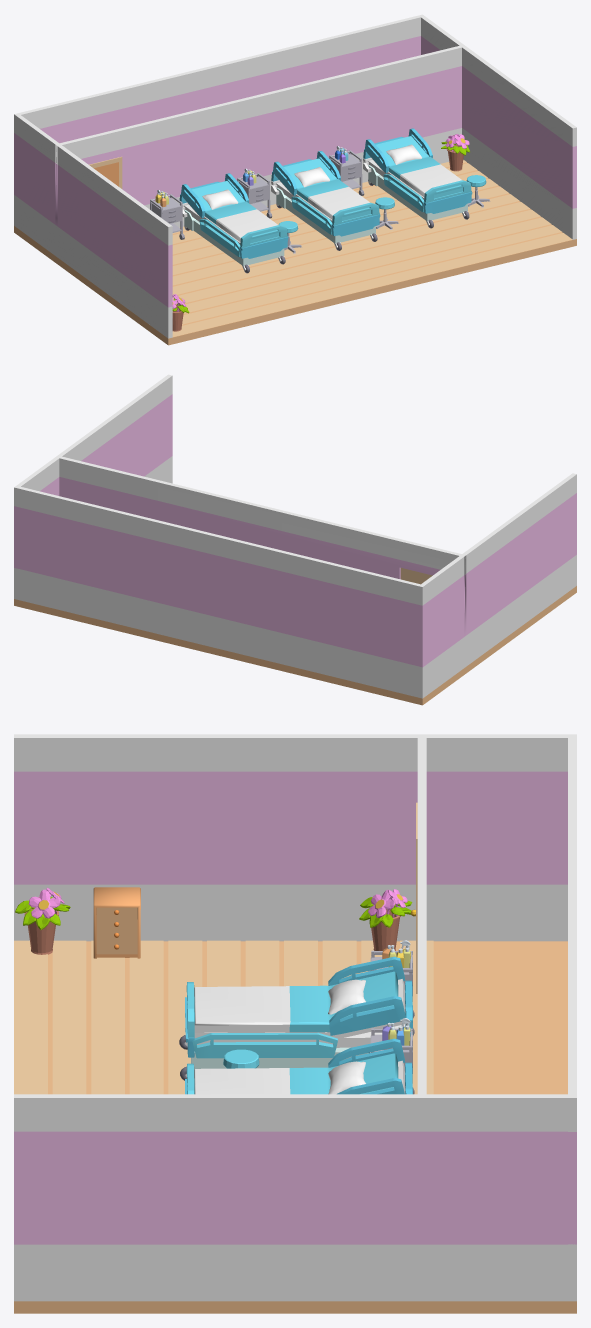
File: rd_Room.fbx
The picture shows the model from 3 angles, top to bottom: view 1: azimuth 30°, elevation 25°; view 2: azimuth 150°, elevation 25°; view 3: azimuth 270°, elevation 25°; orthographic projection. The views are drawn at different scales.
Parts seen in each view (by area): view 1: polySurface47, Wall_M_01_5, Wall_M_01_6, Wall_M_01_8, Wall_M_01_7, pasted__Bed4, pasted__Bed3, pasted__Bed2, Assets_01_8, Assets_01_9, Assets_01_10, Assets_01_6 (+2 smaller); view 2: Wall_M_01_8, Wall_M_01_6, Wall_M_01_5, Wall_M_01_7, polySurface47; view 3: Wall_M_01_7, Wall_M_01_6, polySurface47, pasted__Bed2, pasted__Bed3, Wall_M_01_5, Wall_M_01_8, Assets_01_12, Assets_01_11, Assets_01_7, Assets_01_9, Assets_01_10.
Part boxes in pixels (bbox=[...]): polySurface47: bbox=[14, 160, 576, 345]; Wall_M_01_5: bbox=[55, 44, 465, 257]; Wall_M_01_6: bbox=[14, 113, 172, 338]; Wall_M_01_8: bbox=[18, 14, 424, 143]; Wall_M_01_7: bbox=[420, 15, 576, 239]; pasted__Bed4: bbox=[363, 128, 472, 228]; pasted__Bed3: bbox=[271, 151, 380, 250]; pasted__Bed2: bbox=[179, 173, 288, 273]; Assets_01_8: bbox=[329, 146, 364, 195]; Assets_01_9: bbox=[237, 168, 272, 218]; Assets_01_10: bbox=[150, 190, 184, 239]; Assets_01_6: bbox=[441, 134, 469, 171]; Wall_M_01_8: bbox=[14, 486, 424, 698]; Wall_M_01_6: bbox=[418, 473, 576, 697]; Wall_M_01_5: bbox=[55, 455, 466, 667]; Wall_M_01_7: bbox=[14, 374, 172, 599]; polySurface47: bbox=[14, 586, 576, 705]; Wall_M_01_7: bbox=[14, 1094, 576, 1301]; Wall_M_01_6: bbox=[14, 734, 576, 941]; polySurface47: bbox=[14, 940, 576, 1313]; pasted__Bed2: bbox=[179, 956, 413, 1080]; pasted__Bed3: bbox=[185, 1038, 412, 1094]; Wall_M_01_5: bbox=[417, 734, 426, 1301]; Wall_M_01_8: bbox=[568, 734, 576, 1301]; Assets_01_12: bbox=[93, 887, 140, 958]; Assets_01_11: bbox=[15, 887, 70, 954]; Assets_01_7: bbox=[359, 889, 412, 950]; Assets_01_9: bbox=[369, 1018, 414, 1094]; Assets_01_10: bbox=[368, 940, 414, 1035].
Size of the model in its own units: 5773 by 1597 by 3776.
1 material, 1 textured.
